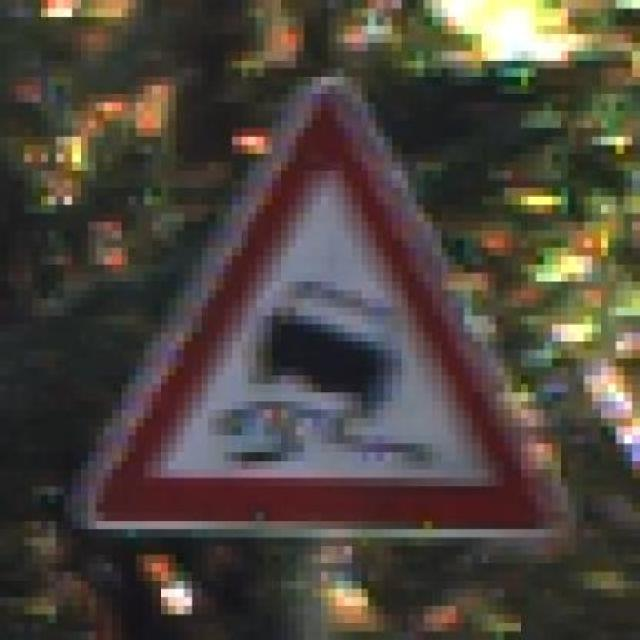Slippery Road Ahead: (39, 68, 576, 546)
